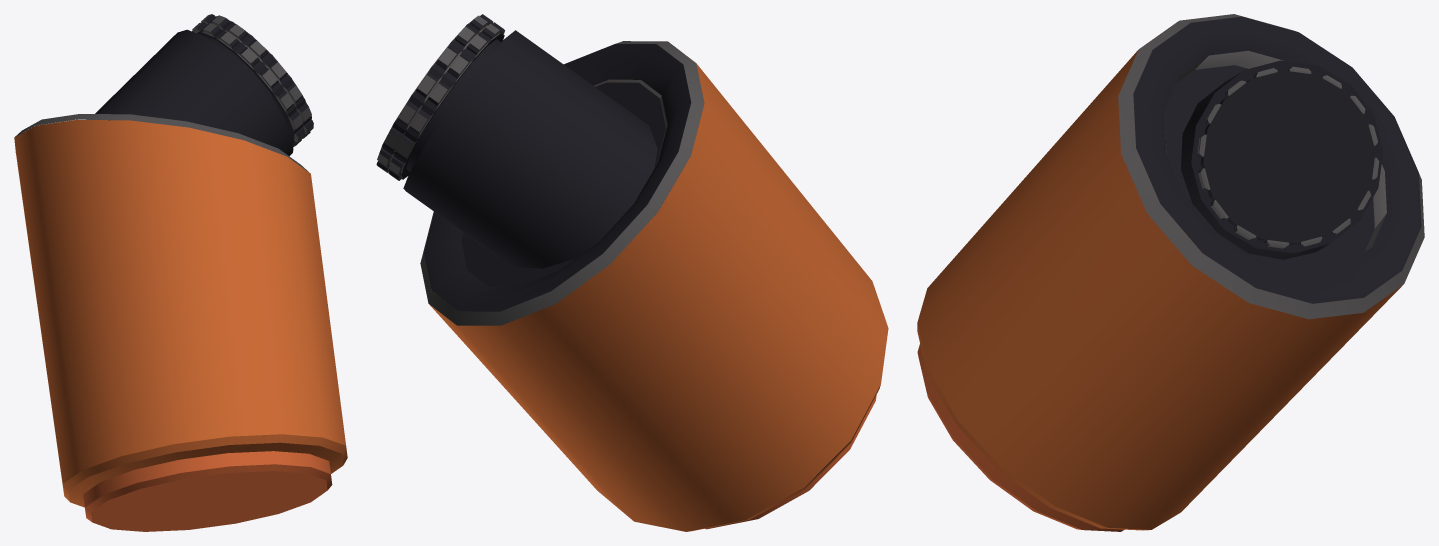
The model's file is r_thigh.glb.
The picture shows the model from 3 angles, left to right: view 1: azimuth 30°, elevation 25°; view 2: azimuth 150°, elevation 25°; view 3: azimuth 270°, elevation 25°; orthographic projection. The views are drawn at different scales.
Parts seen in each view (by area): view 1: r_thigh; view 2: r_thigh; view 3: r_thigh.
Boxes of the visible parts, left/top/right/bottom form: r_thigh: left=14, top=14, right=347, bottom=531; r_thigh: left=376, top=14, right=888, bottom=531; r_thigh: left=917, top=14, right=1424, bottom=531.
Bounding box in the file's own units: 0.6622 × 0.8941 × 0.8083.
